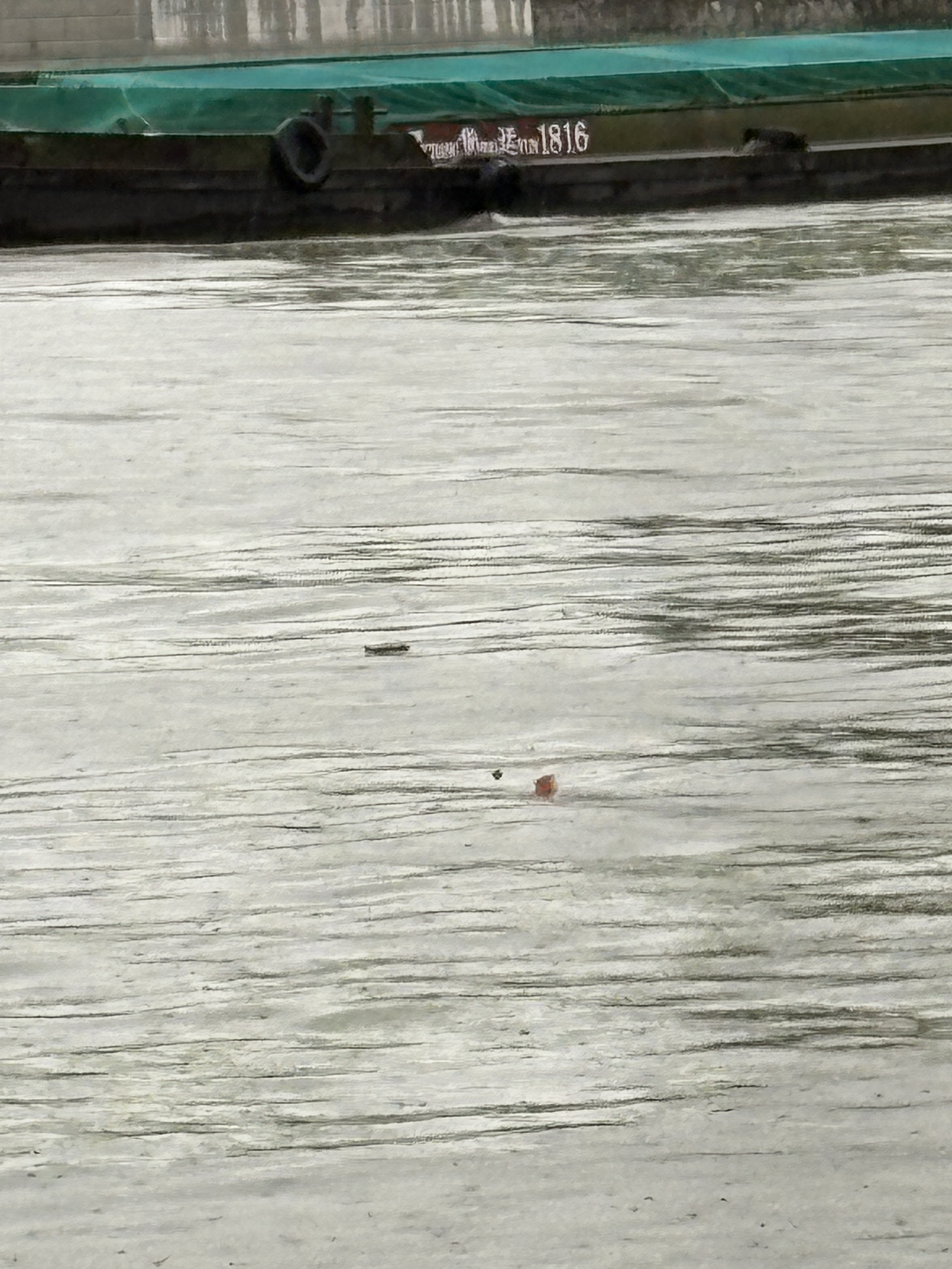Natural wastes: (574, 526, 602, 572), (476, 720, 496, 779)
